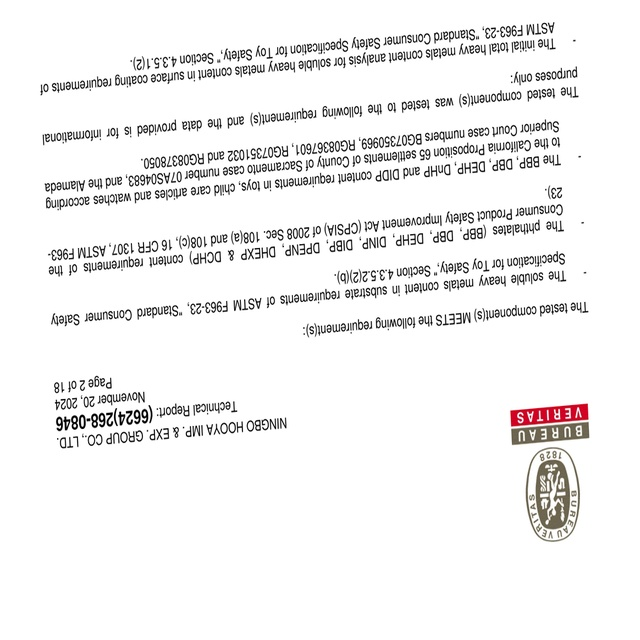bureau_veritas: (505, 397, 591, 547)
